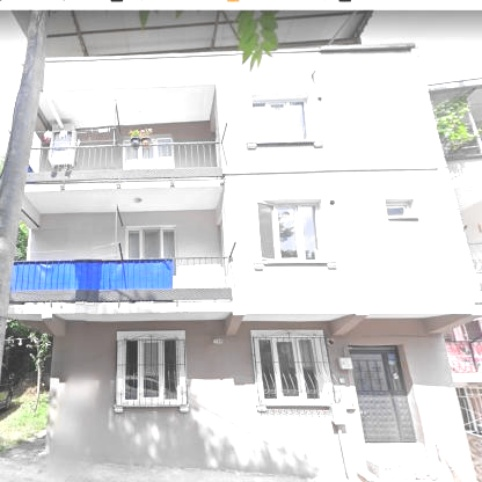door: (349, 346, 415, 442)
